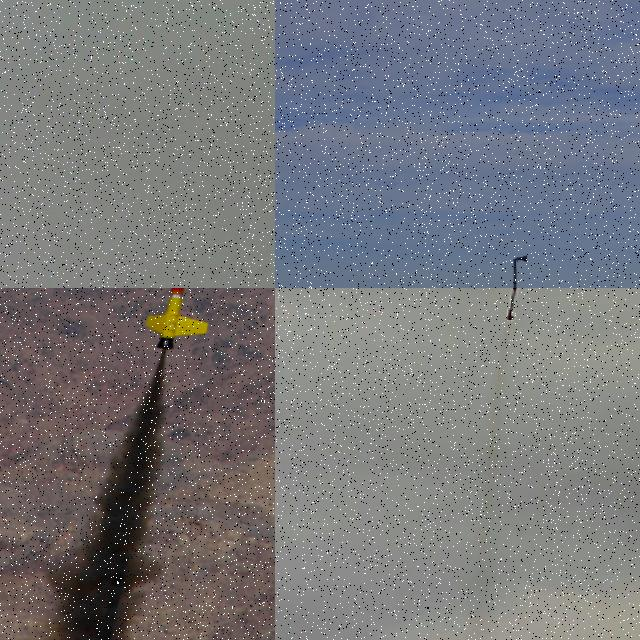Rocket: (142, 288, 218, 350), (504, 288, 518, 320)
